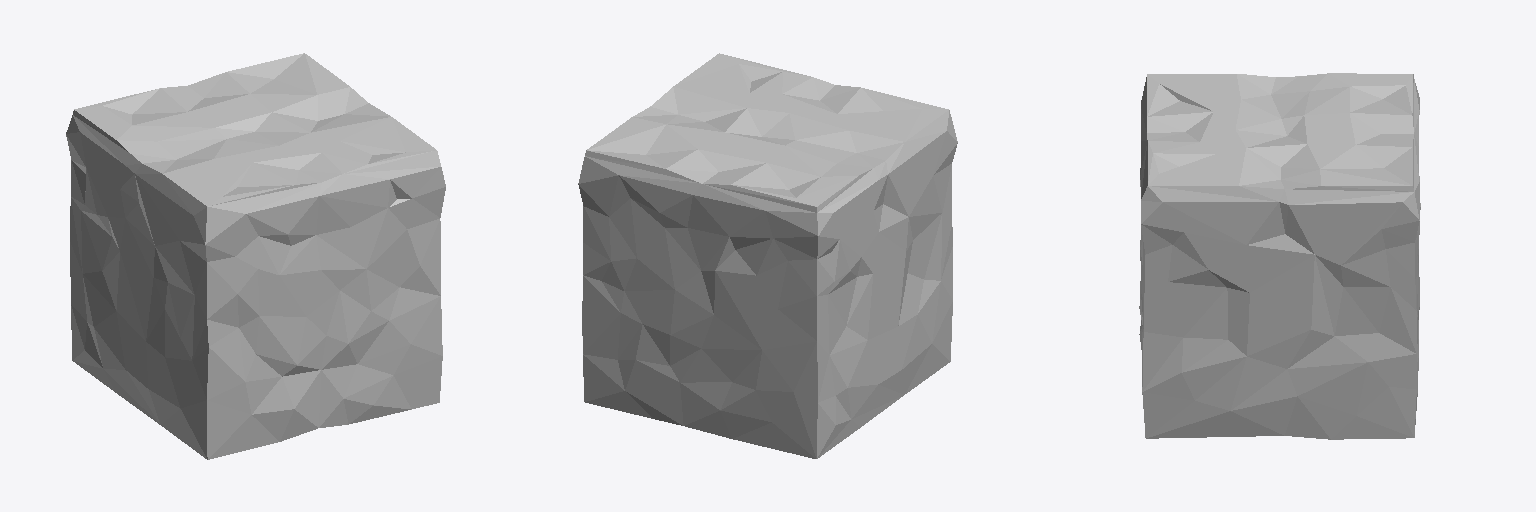
The model's file is terrain_cube_for_a_pl_0518160801_texture.obj.
The picture shows the model from 3 angles: view 1: azimuth 30°, elevation 25°; view 2: azimuth 150°, elevation 25°; view 3: azimuth 270°, elevation 25°; orthographic projection.
Visible parts, largest first — view 1: Mesh1; view 2: Mesh1; view 3: Mesh1.
Part boxes in pixels (x1,y1,x2,y2): Mesh1: (66, 53, 445, 459); Mesh1: (578, 53, 957, 458); Mesh1: (1139, 73, 1420, 439).
Bounding box in the file's own units: 2 × 2.01 × 2.02.